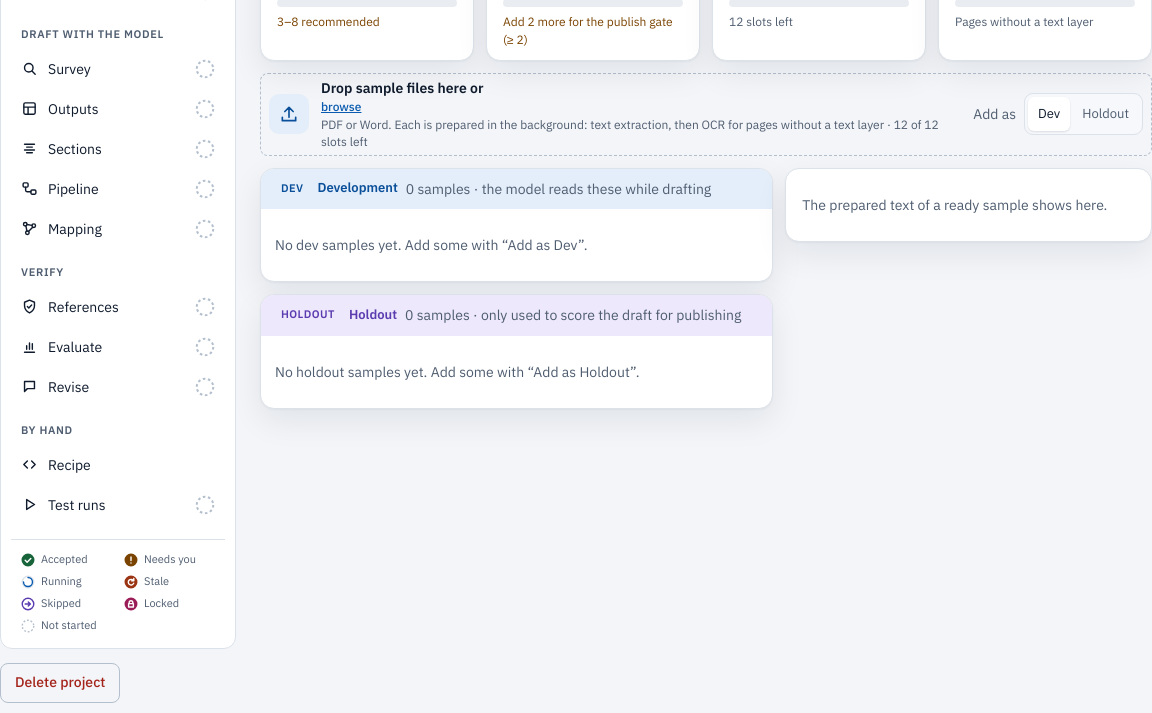
Test case: ProjectPage › shows why a delete was refused
(page scrolled)
Click the button "Delete project" at [60, 682], box [0,662,120,702]
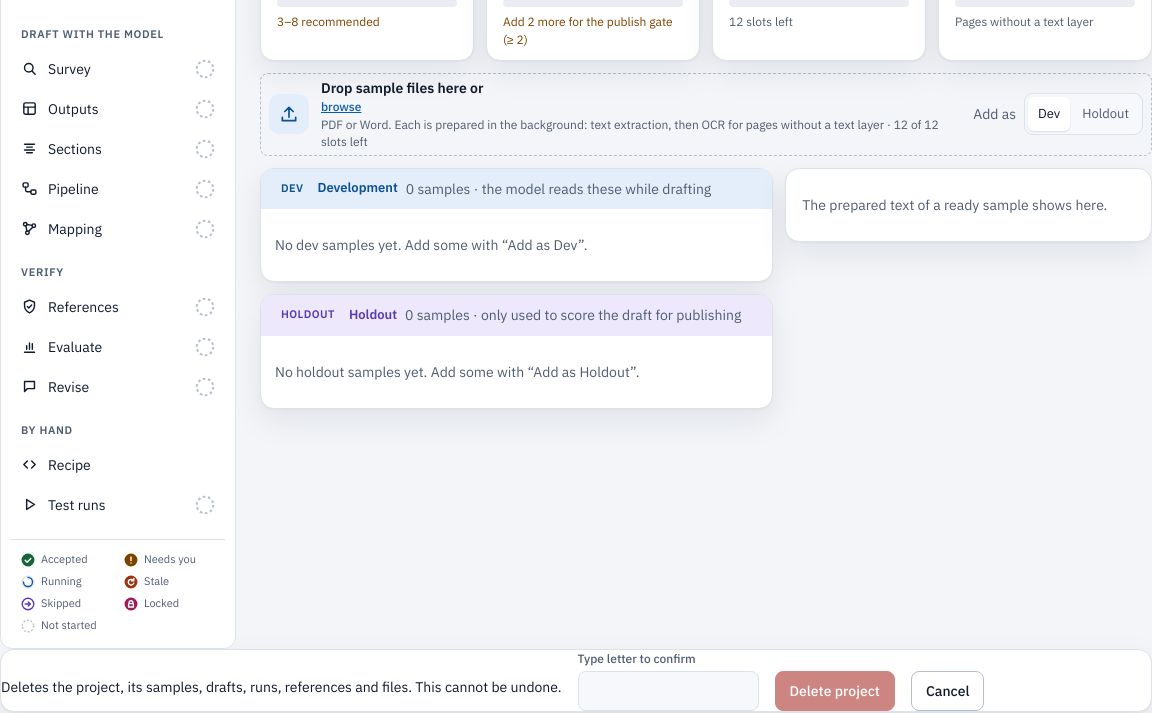
Type "letter" into the field labelled "Type letter to confirm" at [668, 691], box [578,671,758,711]
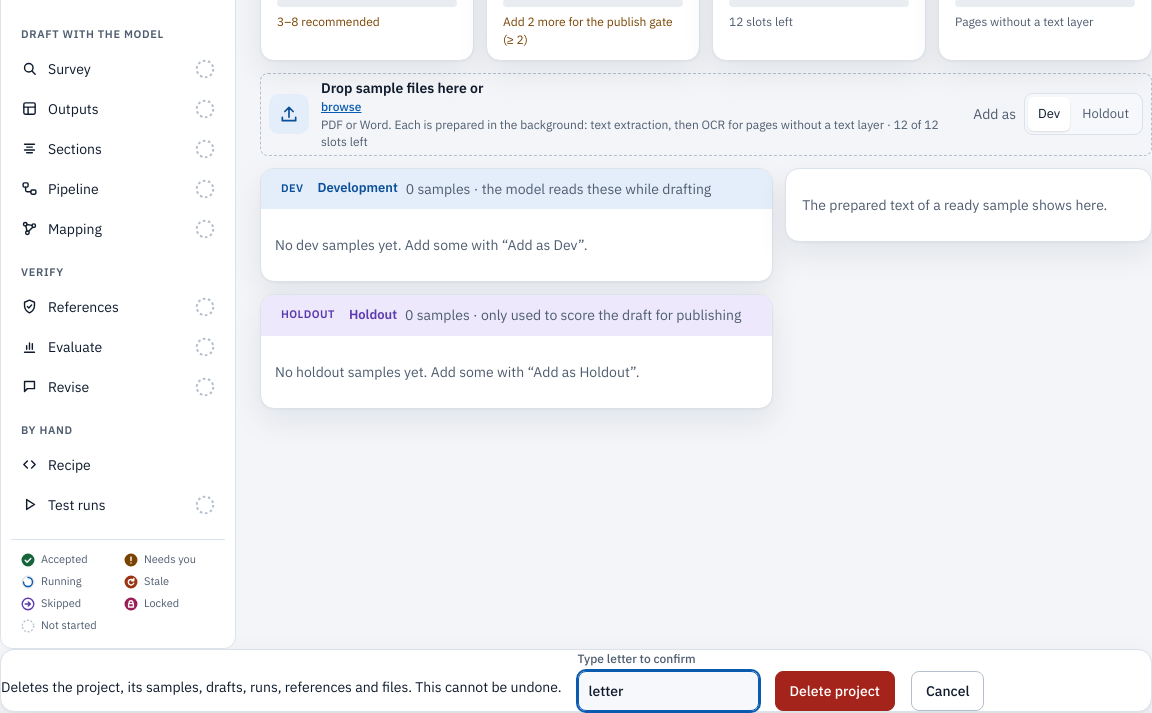
Click the button "Delete project" at [835, 691], box [774,671,895,711]
(page scrolled)
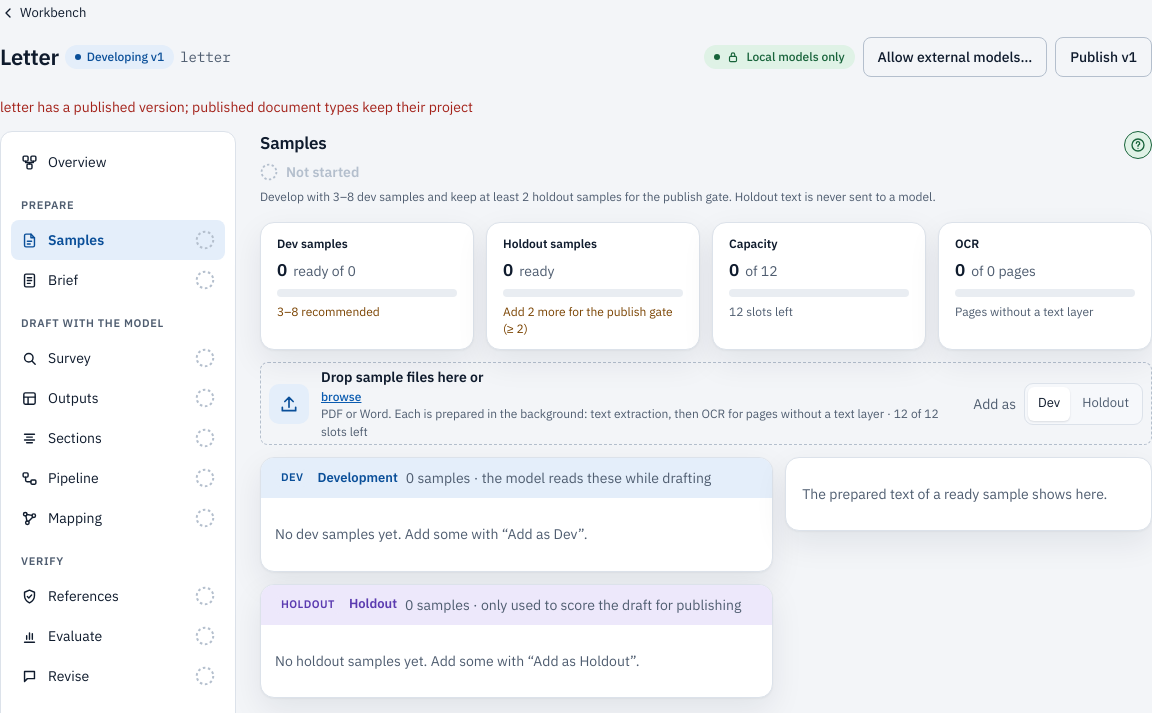
Result: the message reads "letter has a published version; published document types keep their project" at [0,98,473,116]
